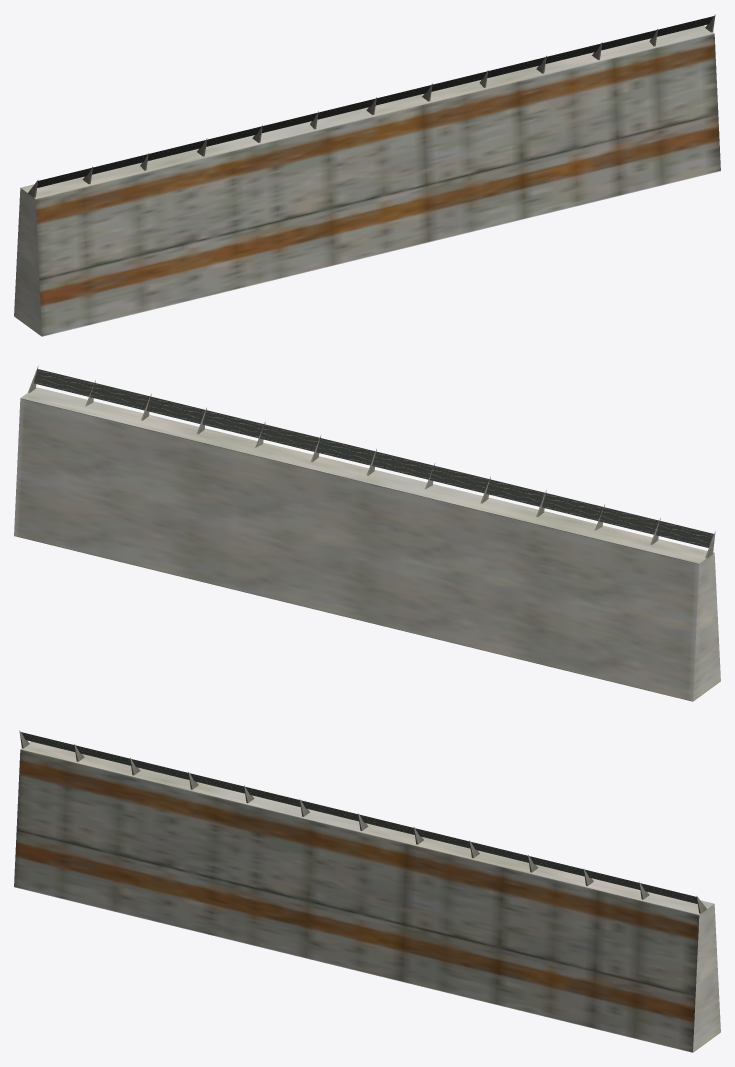
Rendered from mun_all_military_wall_strong_rebl_32_s01_l2.fbx.
3 views of the same model, one above another, from view 1: azimuth 30°, elevation 25°; view 2: azimuth 150°, elevation 25°; view 3: azimuth 330°, elevation 25° (orthographic).
Parts seen in each view (by area): view 1: mesh_node; view 2: mesh_node; view 3: mesh_node.
Boxes of the visible parts, left/top/right/bottom form: mesh_node: left=14, top=14, right=720, bottom=336; mesh_node: left=14, top=366, right=720, bottom=701; mesh_node: left=14, top=730, right=720, bottom=1052.
Size of the model in its own units: 32 by 6.93 by 2.29.
